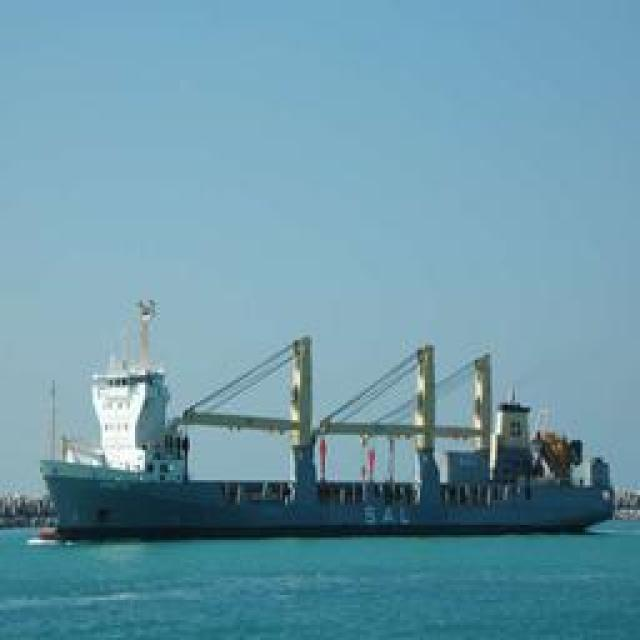ship2: (39, 300, 617, 540)
